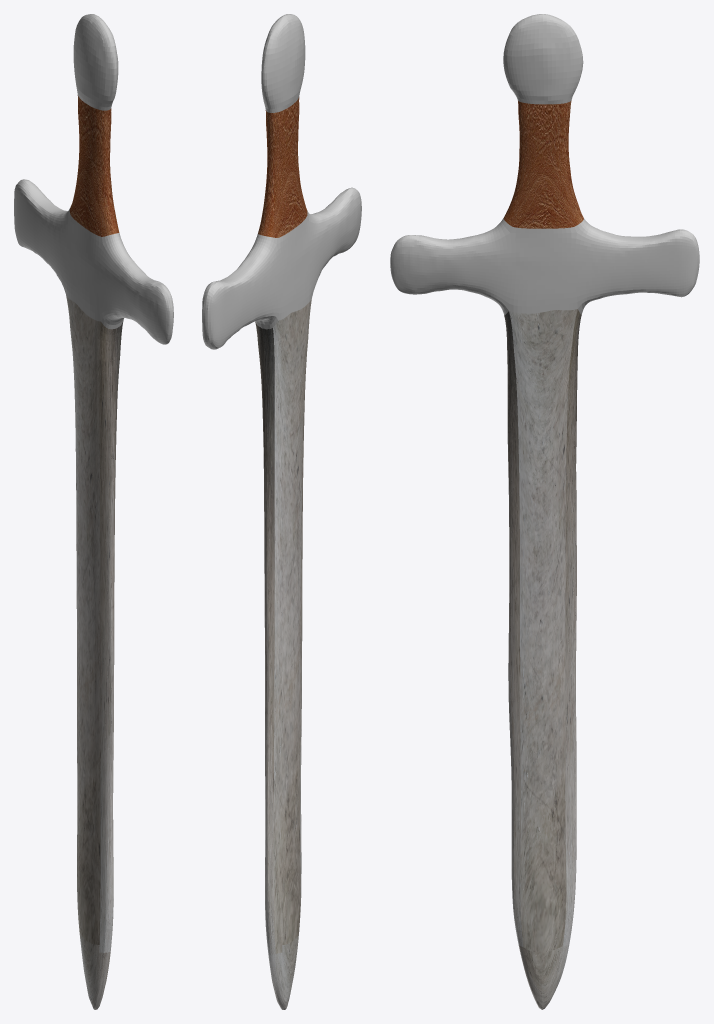
Rendered from sword.fbx.
3 views of the same model, side by side, from view 1: azimuth 30°, elevation 25°; view 2: azimuth 150°, elevation 25°; view 3: azimuth 270°, elevation 25° (orthographic).
Parts seen in each view (by area): view 1: Sword.003; view 2: Sword.003; view 3: Sword.003.
Boxes of the visible parts, x1,y1,x2,y2 form: Sword.003: (14,14,173,1009); Sword.003: (202,14,361,1009); Sword.003: (390,14,699,1009).
Size of the model in its own units: 4.04 by 138 by 38.97.
